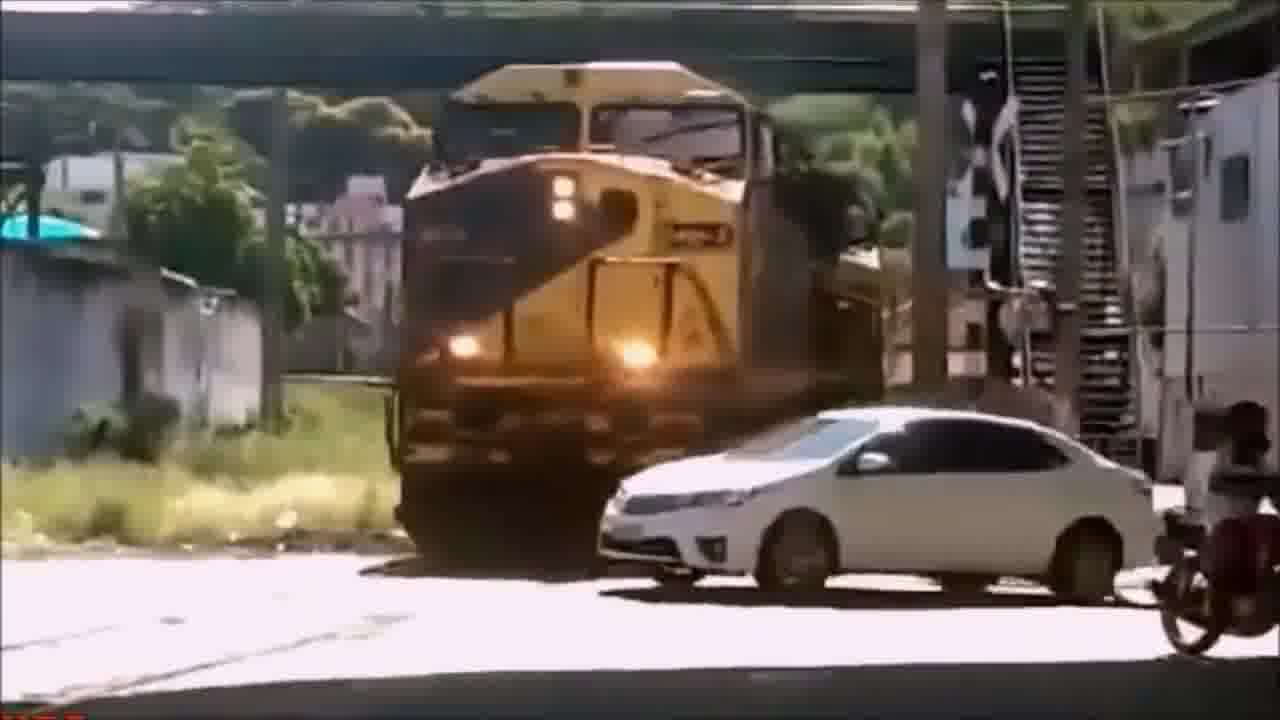crossing railway track: (556, 393, 1195, 603)
